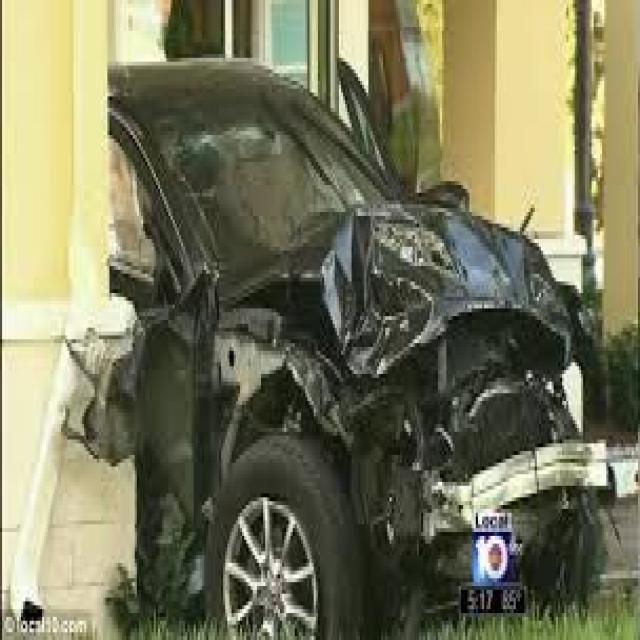severe: (136, 228, 616, 626)
